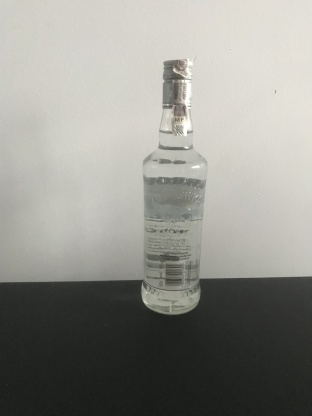nakretka: (160, 56, 195, 109)
